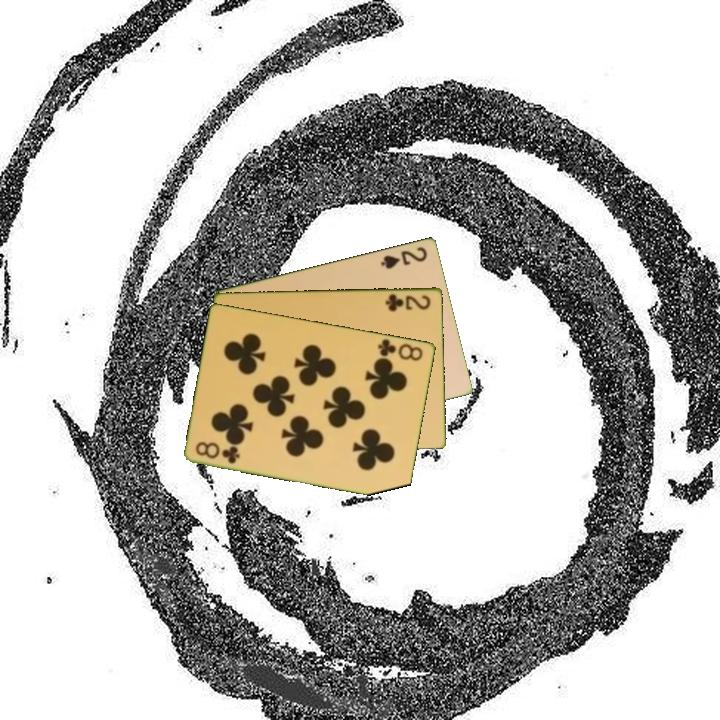2c: (382, 290, 434, 314)
2s: (377, 243, 430, 271)
8c: (192, 438, 243, 467), (375, 335, 426, 363)
